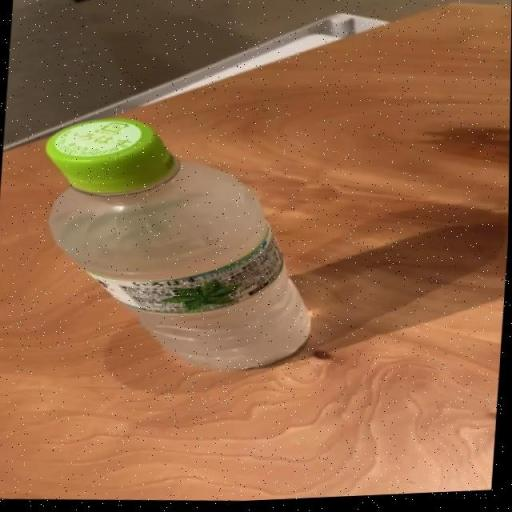plastic: (46, 119, 312, 373)
